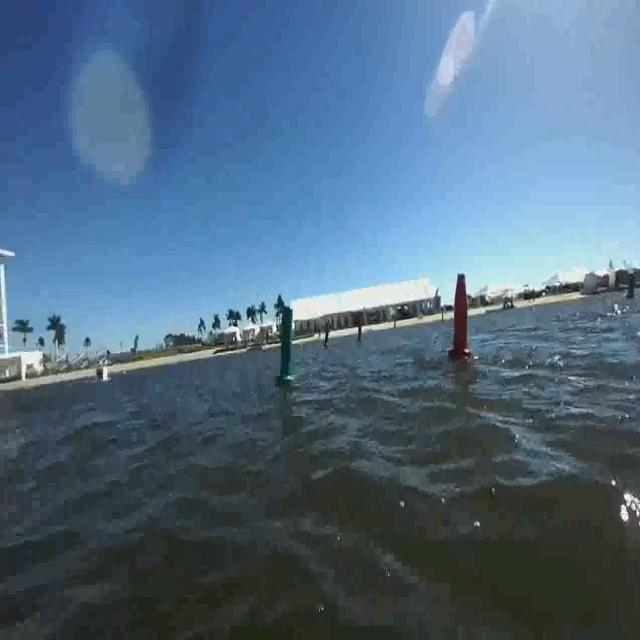green-column-buoy: (275, 306, 296, 386)
red-column-buoy: (449, 269, 472, 360)
